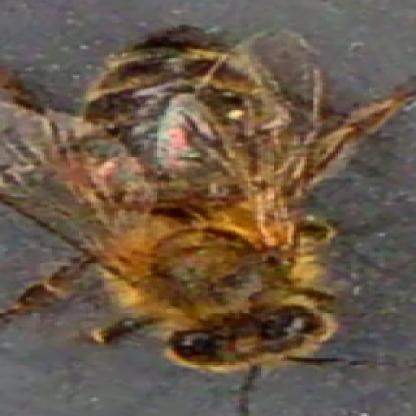bee: (54, 24, 338, 354)
